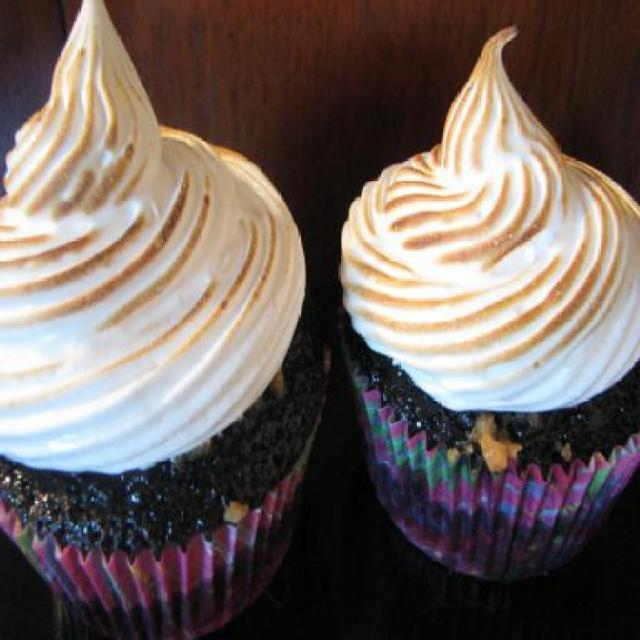Muffin: (0, 0, 334, 638), (338, 11, 639, 602)
